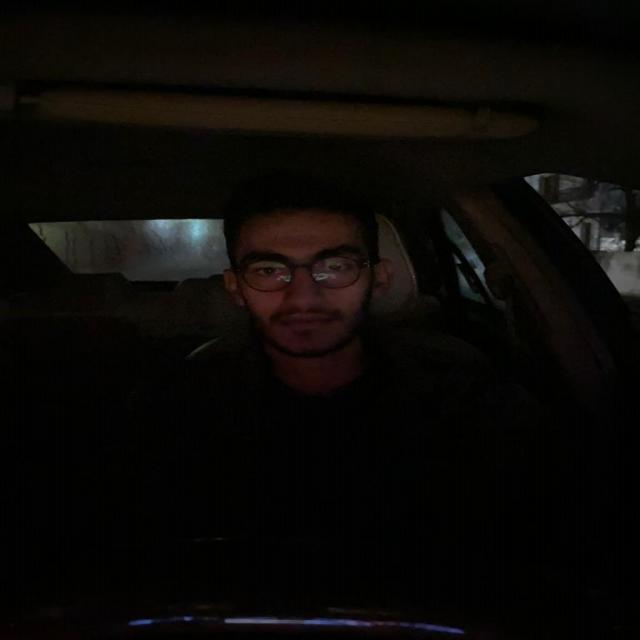person: (216, 172, 402, 362)
